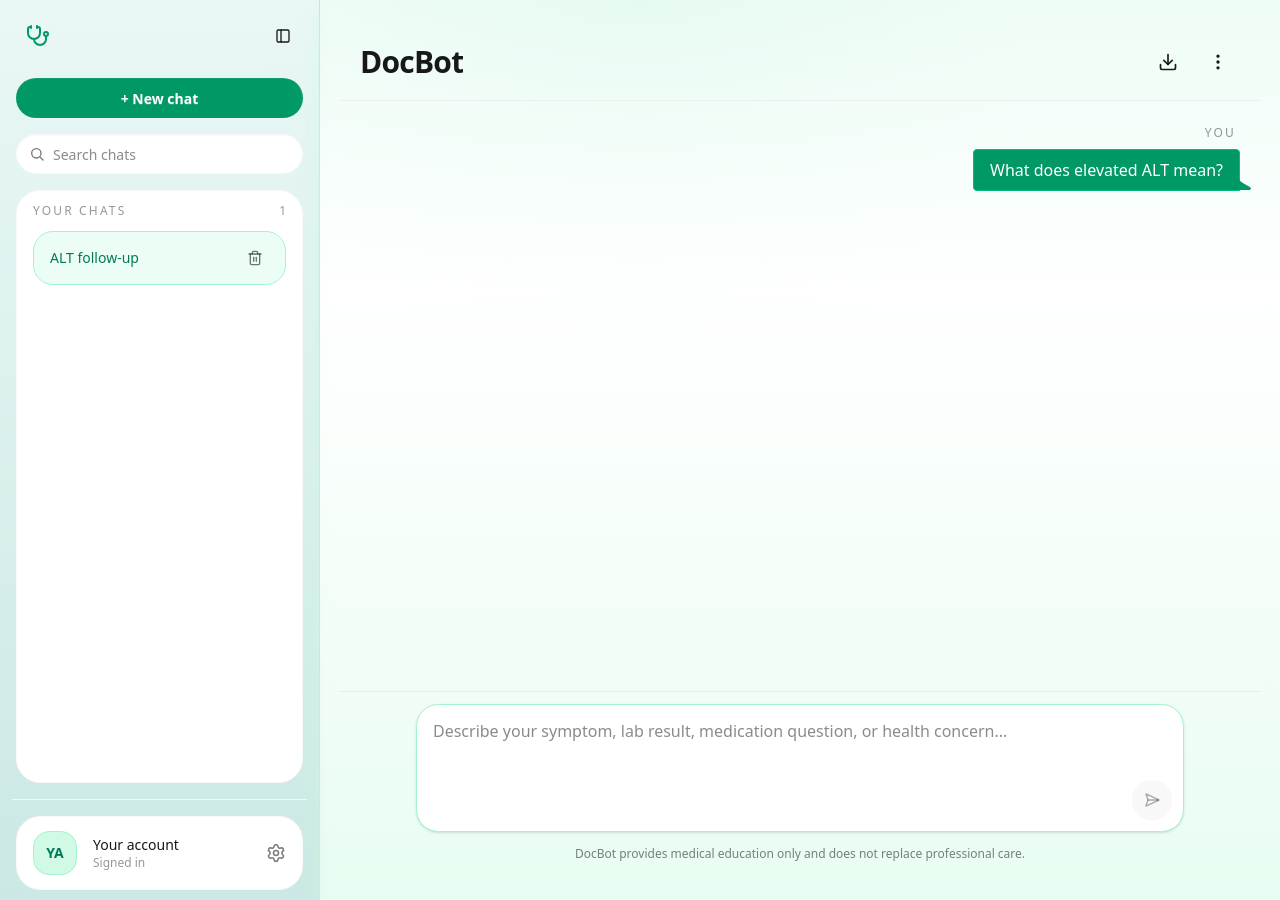
Scenario: chat shell › deletes all conversations from the settings menu
Expected: the text "What does elevated ALT mean?" is shown, [973,149,1240,191]
Step 1. Click the button with aria-label "your account settings" → (160, 853), box [16,816,303,890]
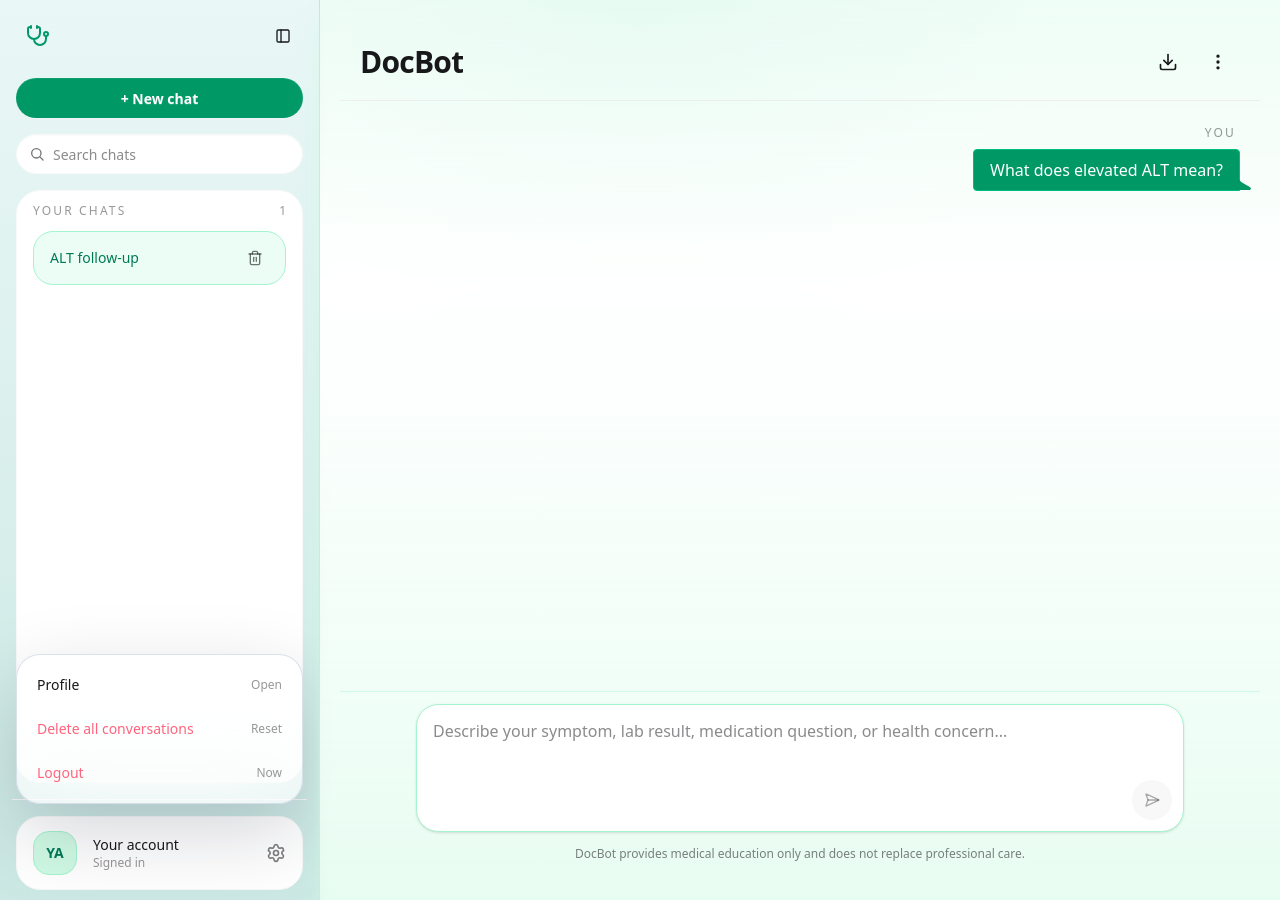
Step 2. Click the menu item "Delete all conversations Reset" → (160, 729), box [25,707,294,751]
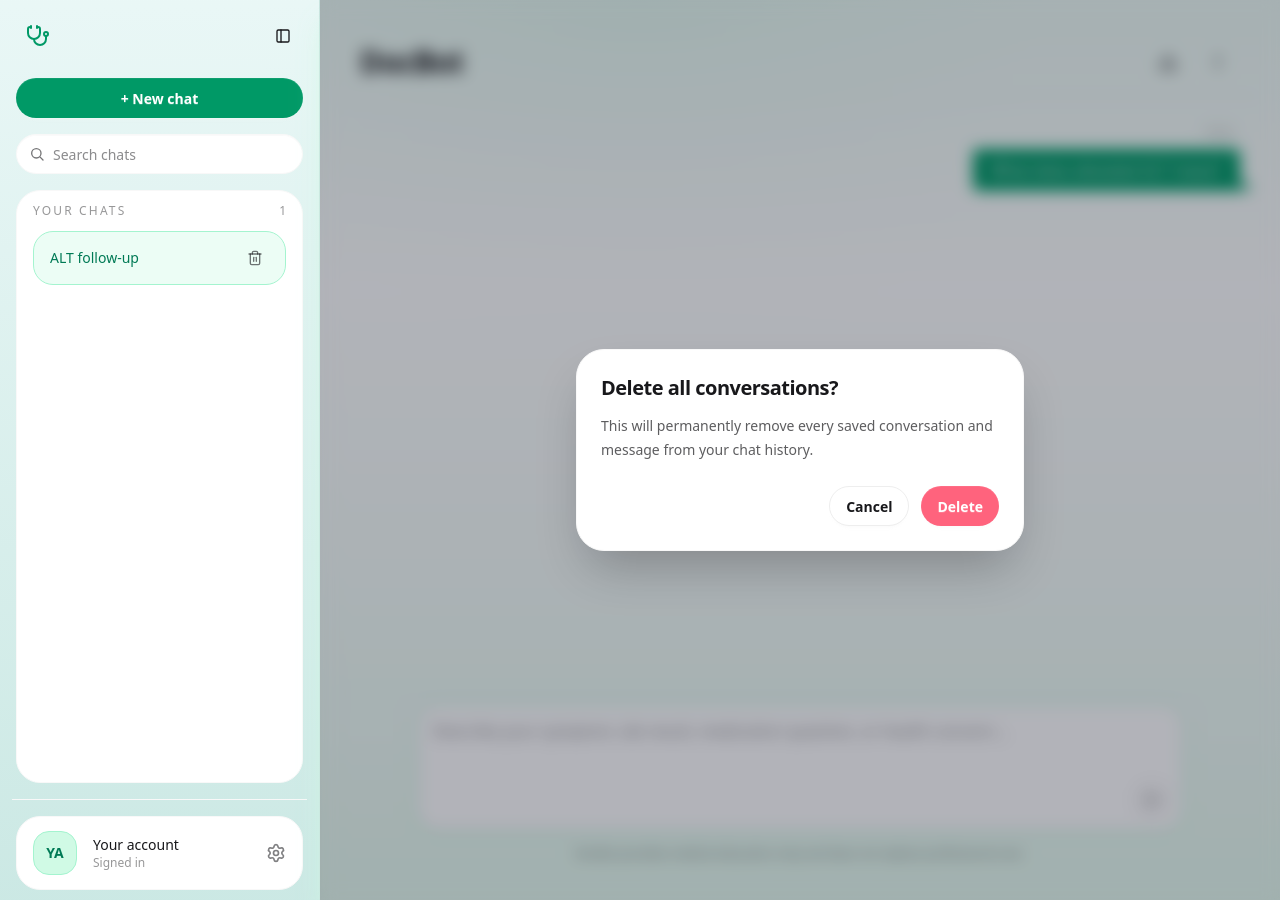
Result: the dialog "Delete all conversations" is shown at [576,349,1024,551]
Step 3. Click the button "Delete" → (960, 506), box [922,486,999,526]
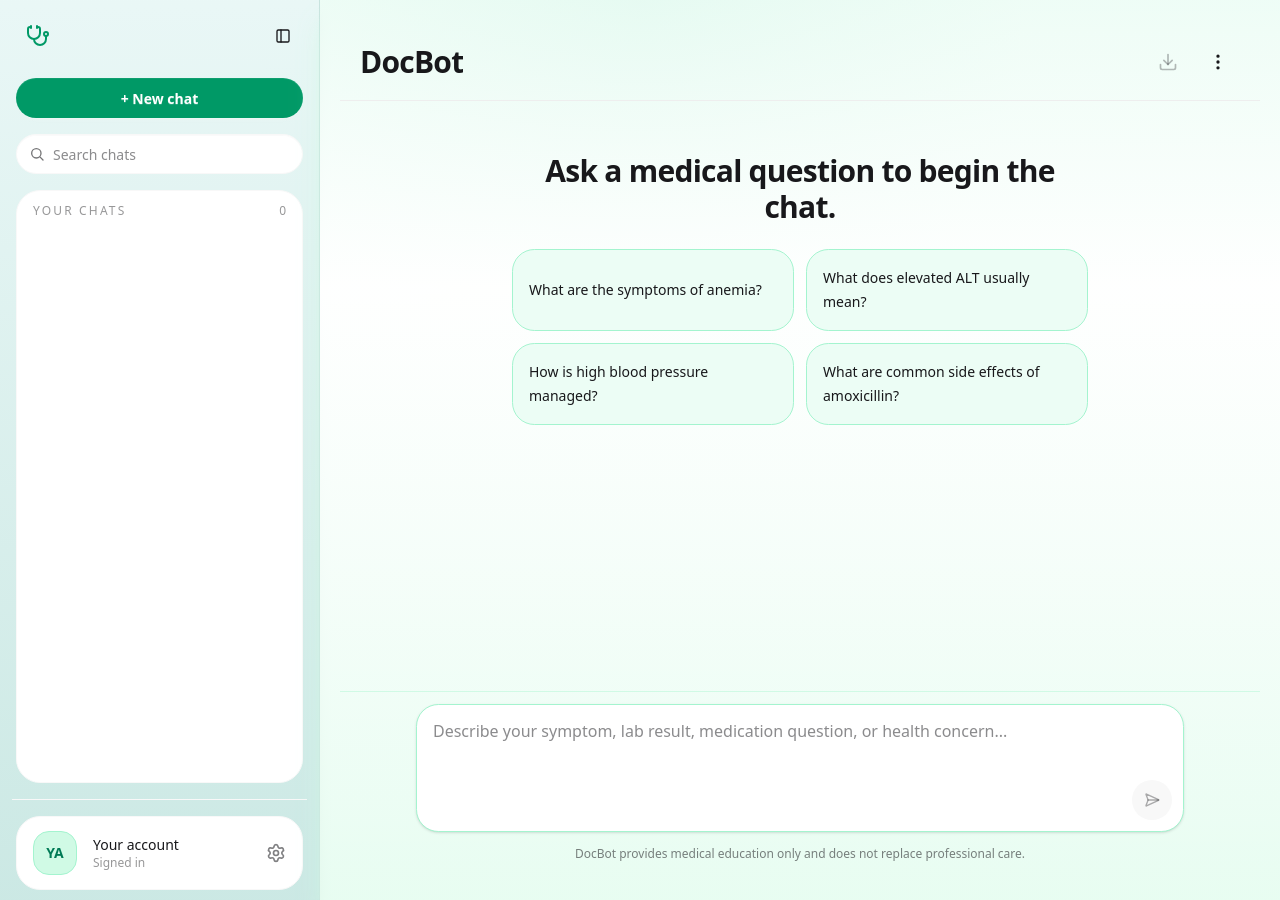
Result: the heading "Ask a medical question to begin the chat." is shown at [512,153,1088,225]
